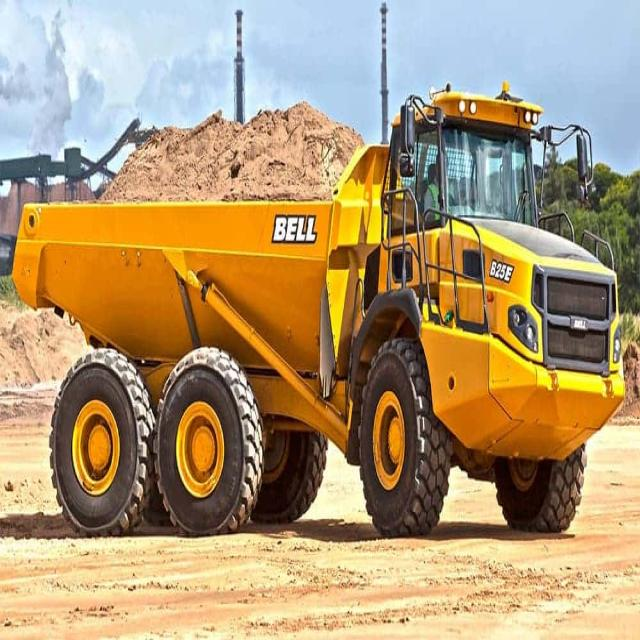dump_truck: (7, 49, 623, 560)
